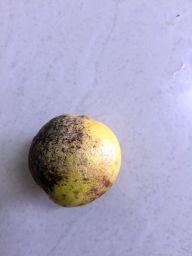lemon: (26, 110, 123, 210)
